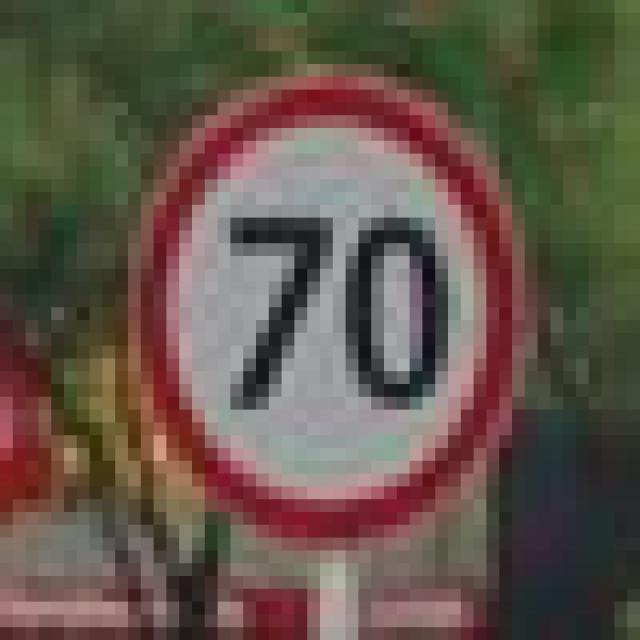SPEED_LIMIT_70: (115, 64, 499, 538)
